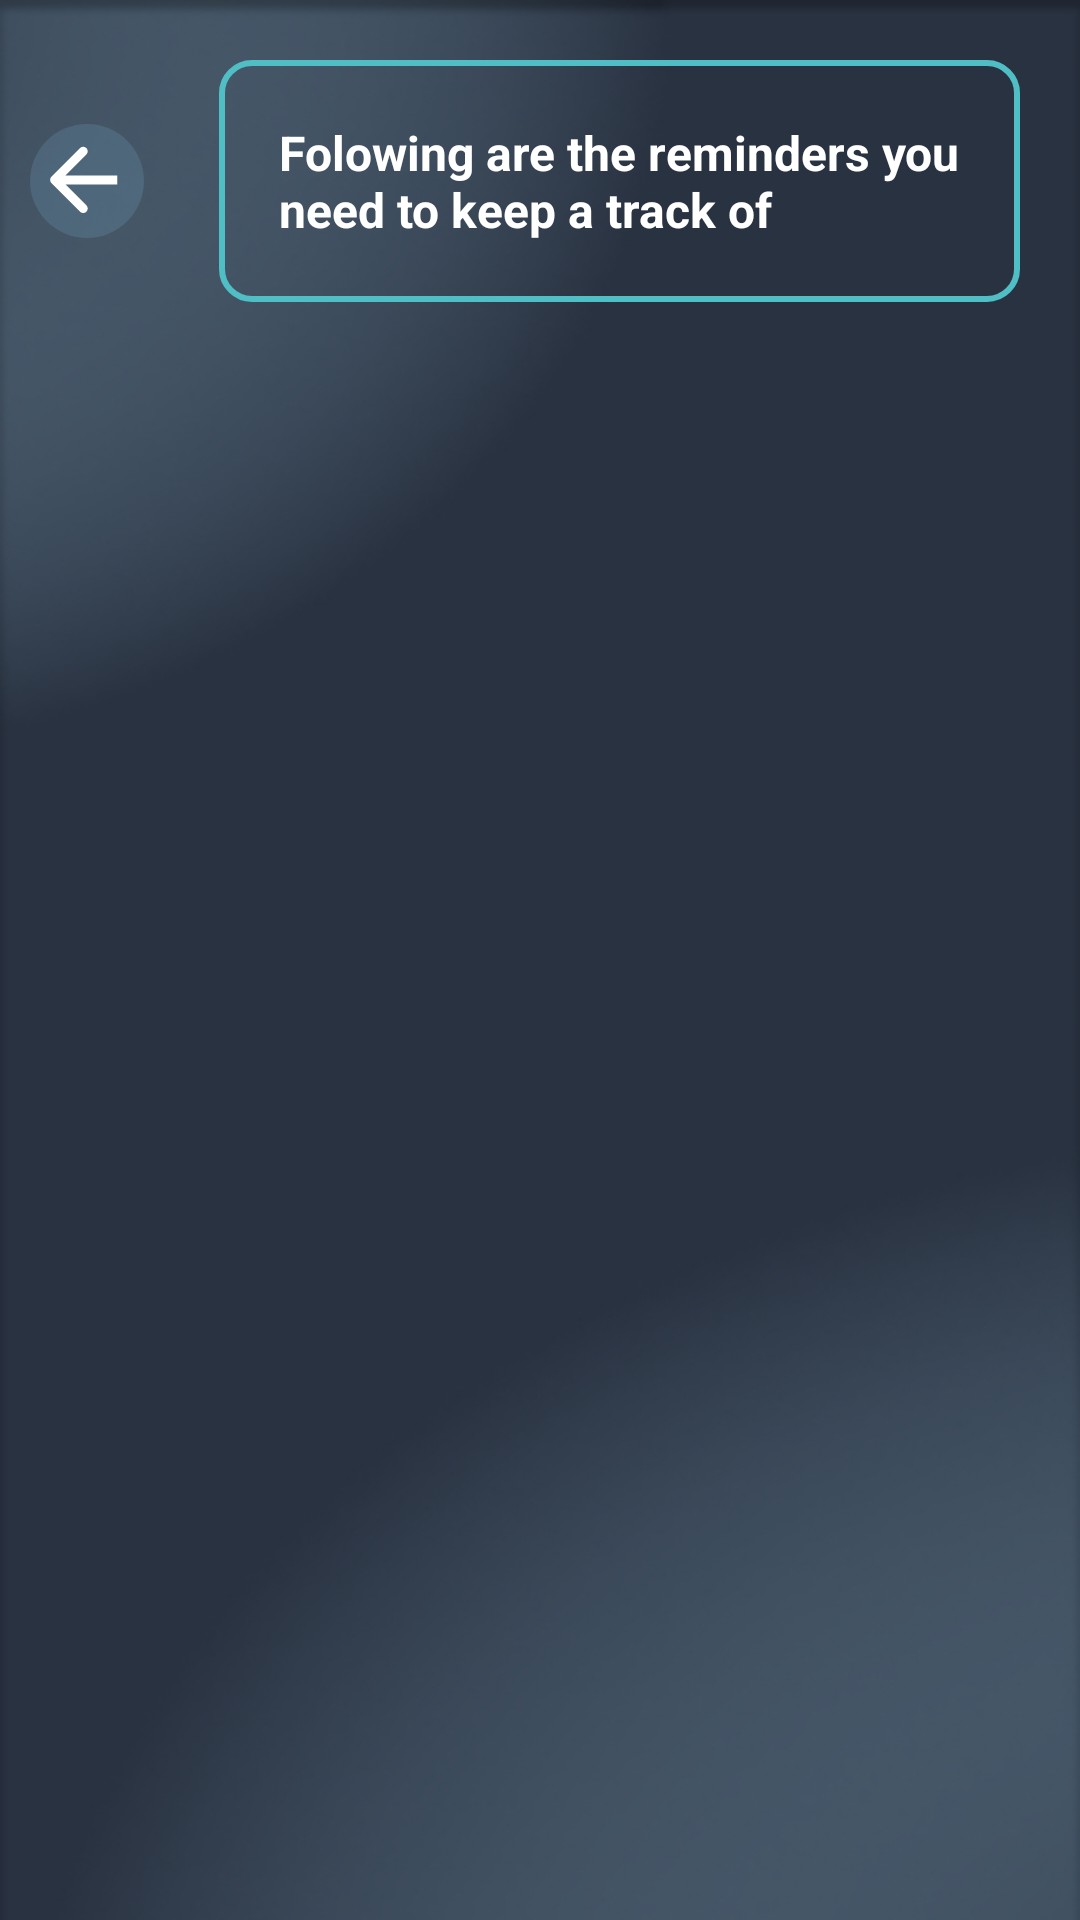

Point at icon controls on the screen. Image size 1080×1920, points as point (x, y).
back: point (87, 181)
